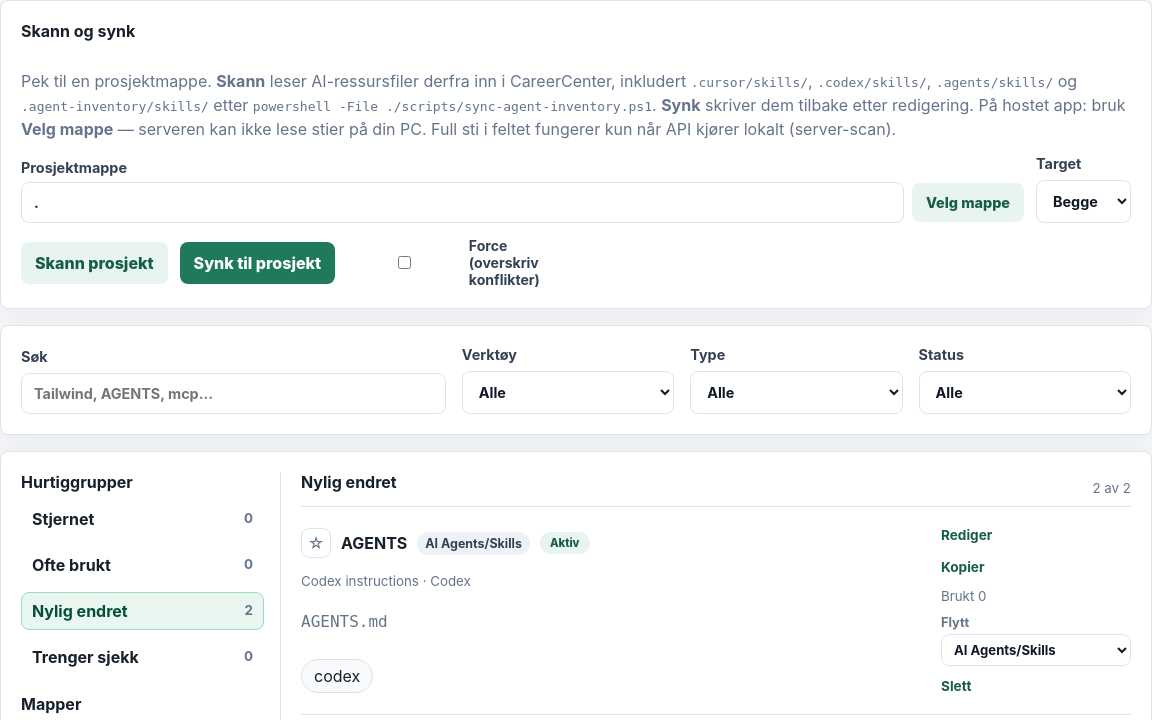
Test: EducationAiResourcesView › filters visible resources from the toolbar
Type "Tailwind" into the field labelled "Søk" at (233, 394), box [21,373,446,414]
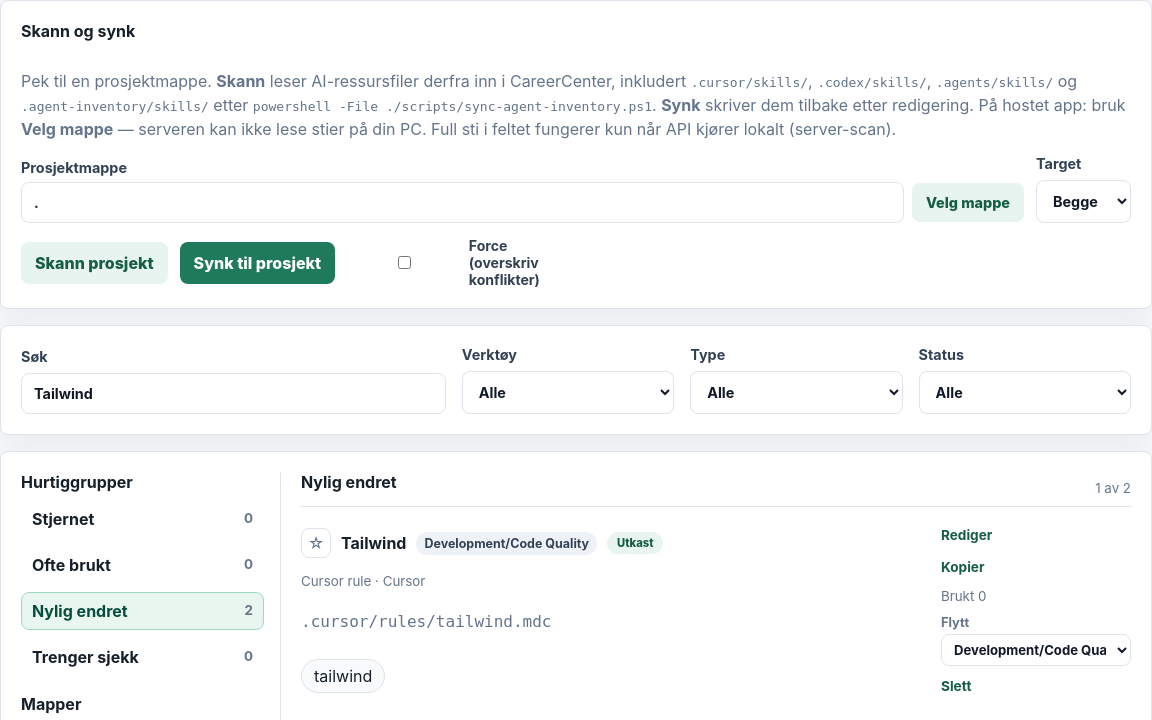
expect the text "Tailwind" is shown: met, box [341,533,406,553]
expect the number of elements with class "ai-resource-card" is 1: met, box [301,506,1131,714]
